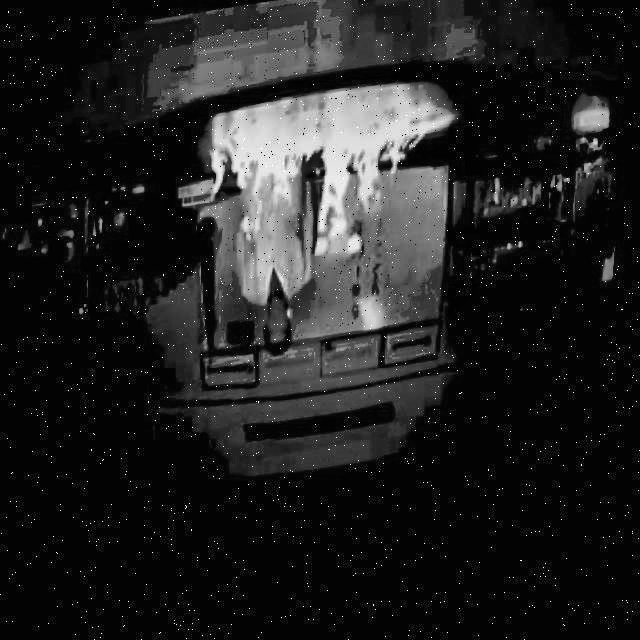Smoke: (191, 112, 470, 267)
